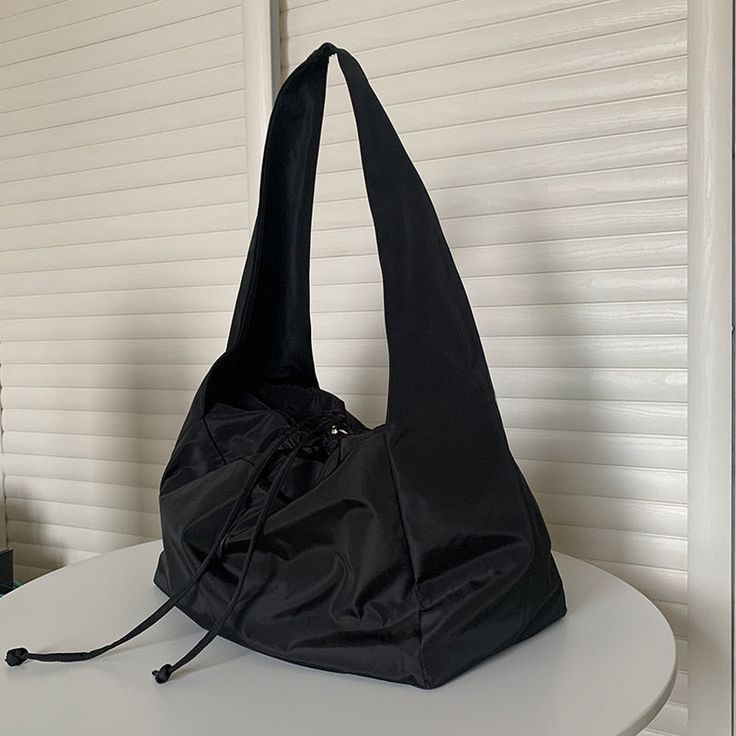nylon: (159, 44, 568, 689)
